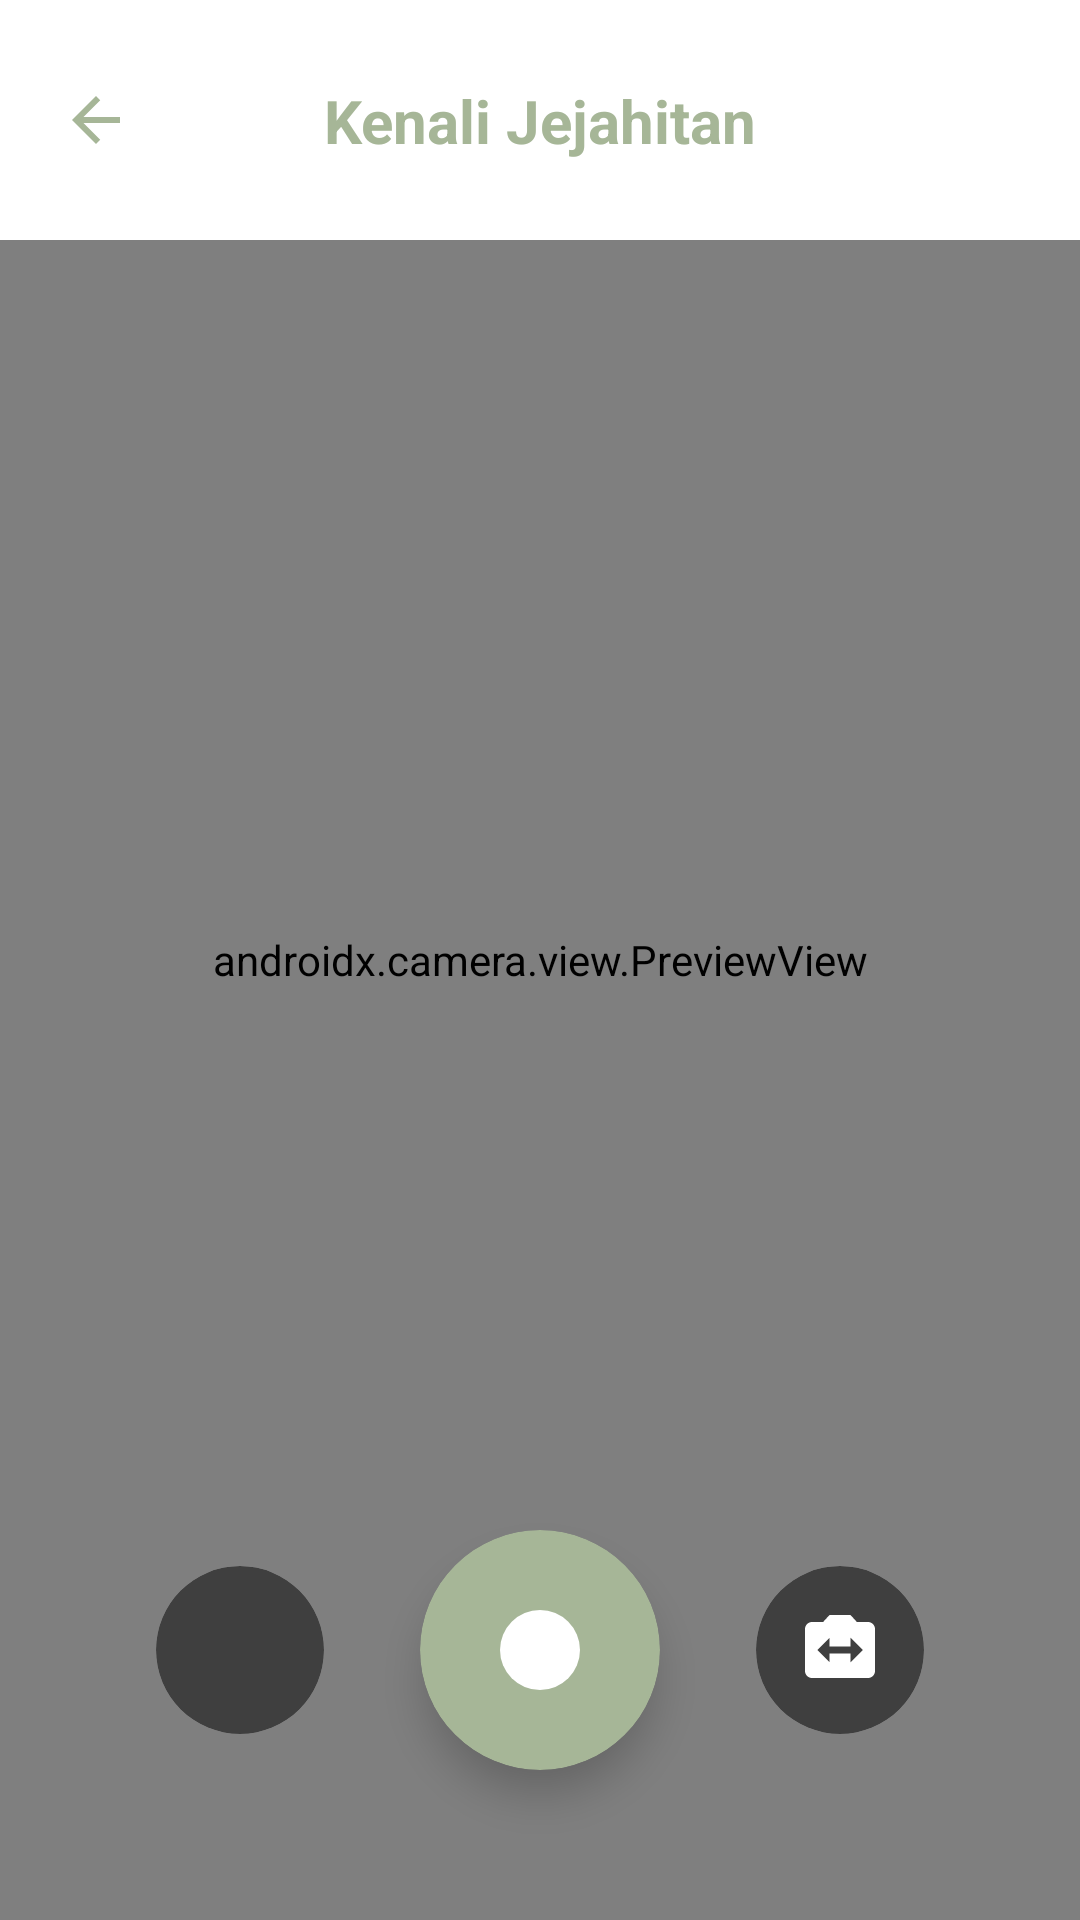

Named icons in this screenshot (1080*1920) and their centers, (x=x, y=y):
arrow back: (x=96, y=120)
switch camera: (x=840, y=1646)
